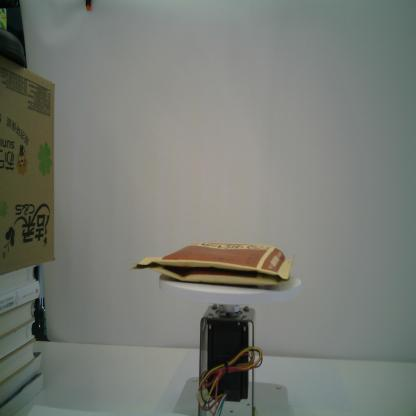Dried Food: (133, 238, 301, 288)
